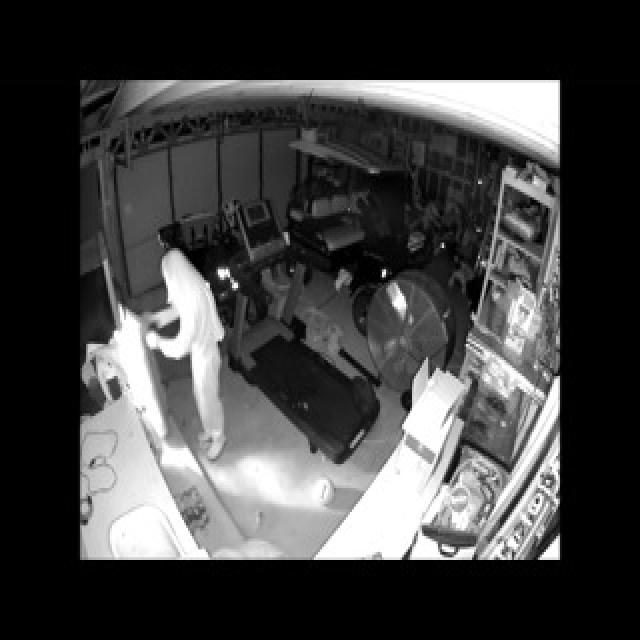thief: (141, 236, 232, 475)
